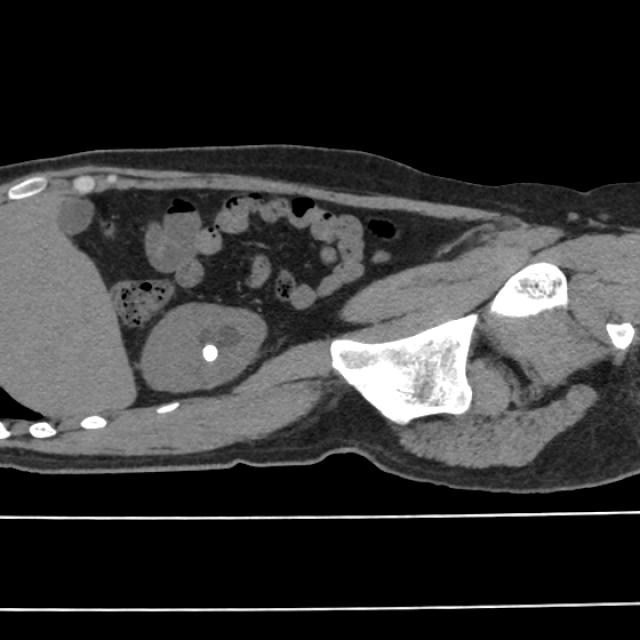kidney: (143, 304, 270, 395)
stone: (203, 340, 221, 362)
